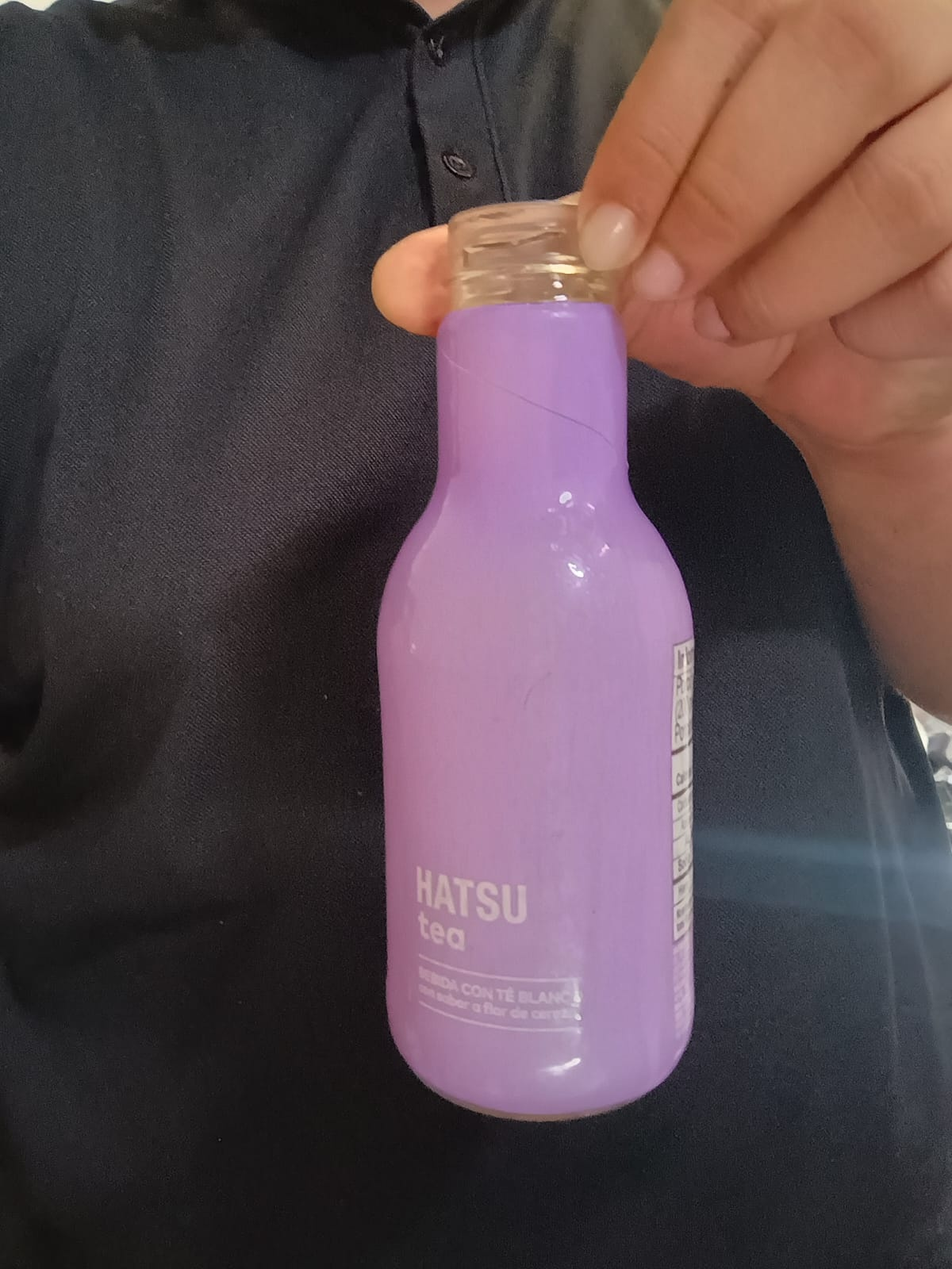Vidrio: (377, 200, 699, 1120)
